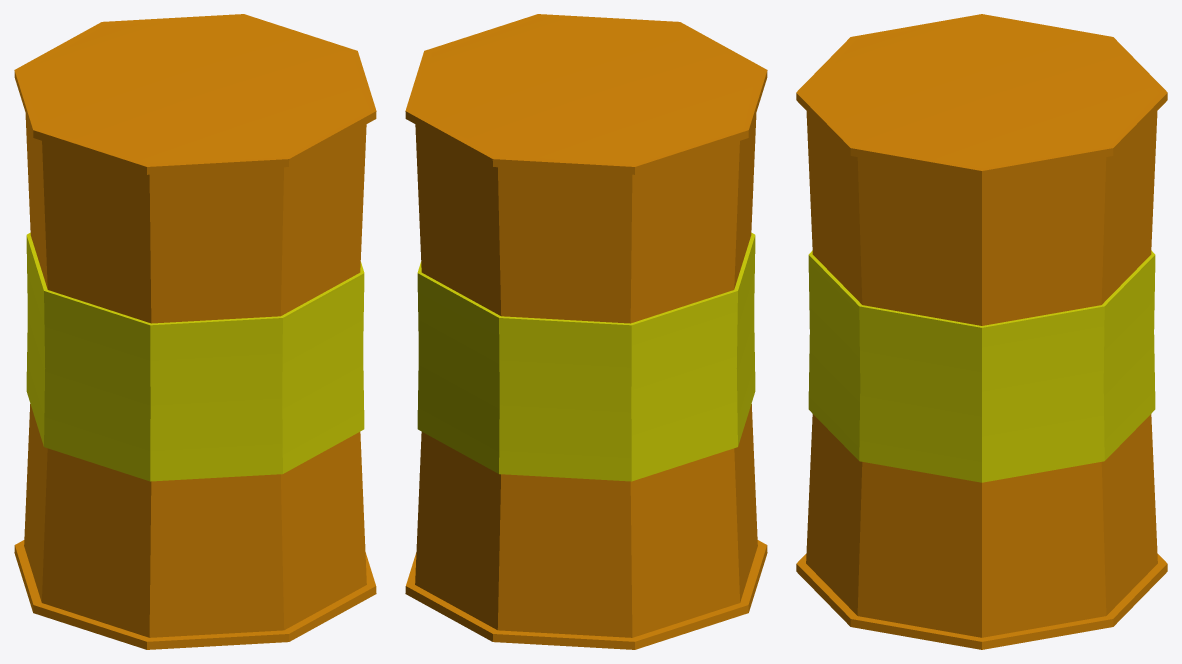
Rendered from Waste_Barrelwhole.fbx.
The picture shows the model from 3 angles, left to right: view 1: azimuth 30°, elevation 25°; view 2: azimuth 150°, elevation 25°; view 3: azimuth 270°, elevation 25°; orthographic projection.
Parts seen in each view (by area): view 1: Barrel; view 2: Barrel; view 3: Barrel.
Part boxes in pixels (box(x1,y1,x2,y2)): Barrel: box(14, 14, 376, 649); Barrel: box(405, 14, 767, 649); Barrel: box(796, 14, 1167, 649).
Bounding box in the file's own units: 0.7307 × 1.05 × 0.7307.
